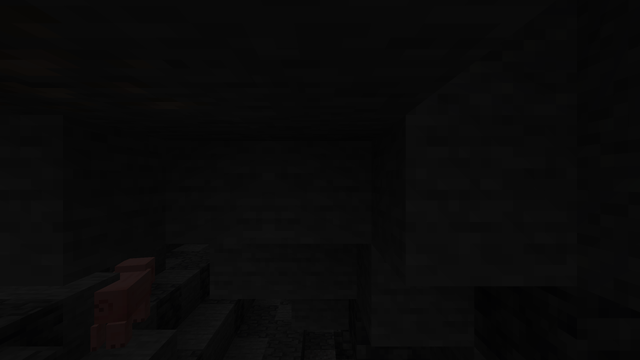cochons: (96, 269, 161, 345)
